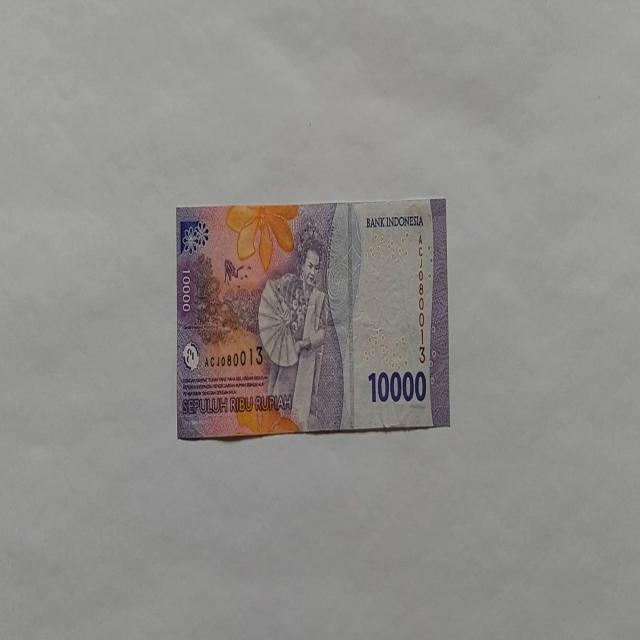sepuluh ribu rupiah: (175, 197, 450, 440)
